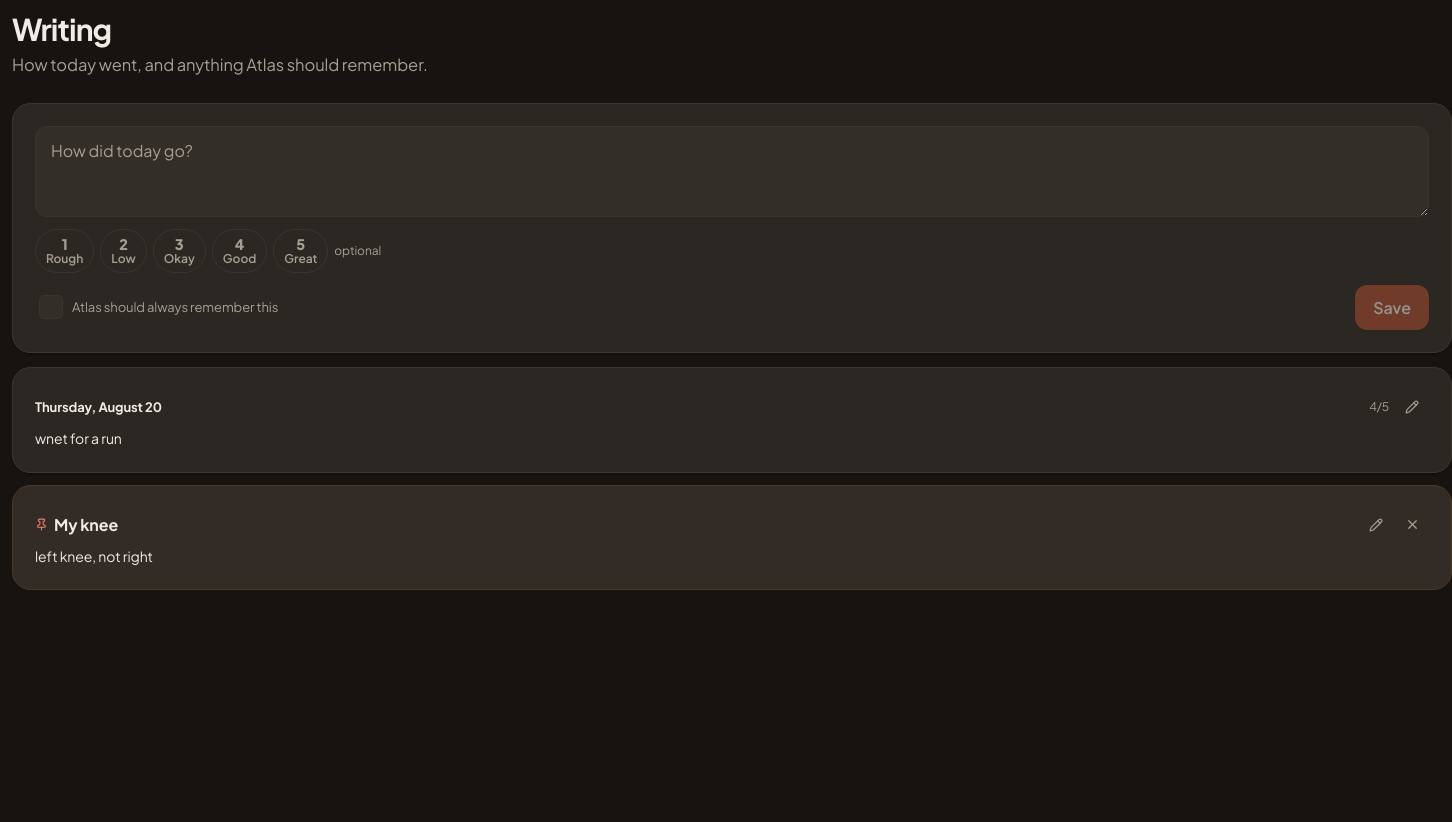
Test case: editing what you have written › sends nothing when the edit is cancelled
Click the button named "Edit " at [1412, 407], box [1395,390,1429,424]
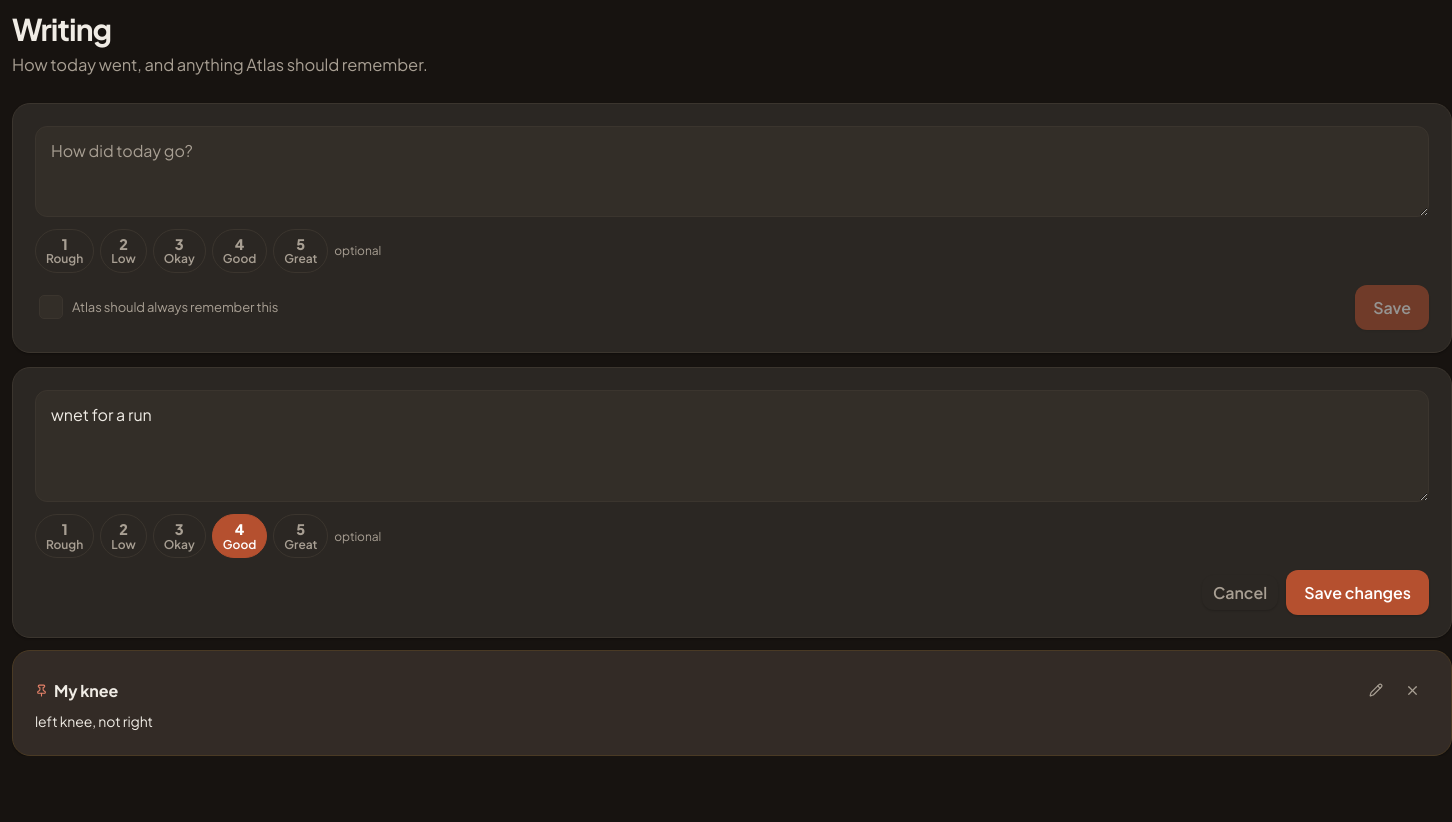
Type " — an afterthought" into the text box named "Edit " at [732, 446], box [35,390,1429,502]
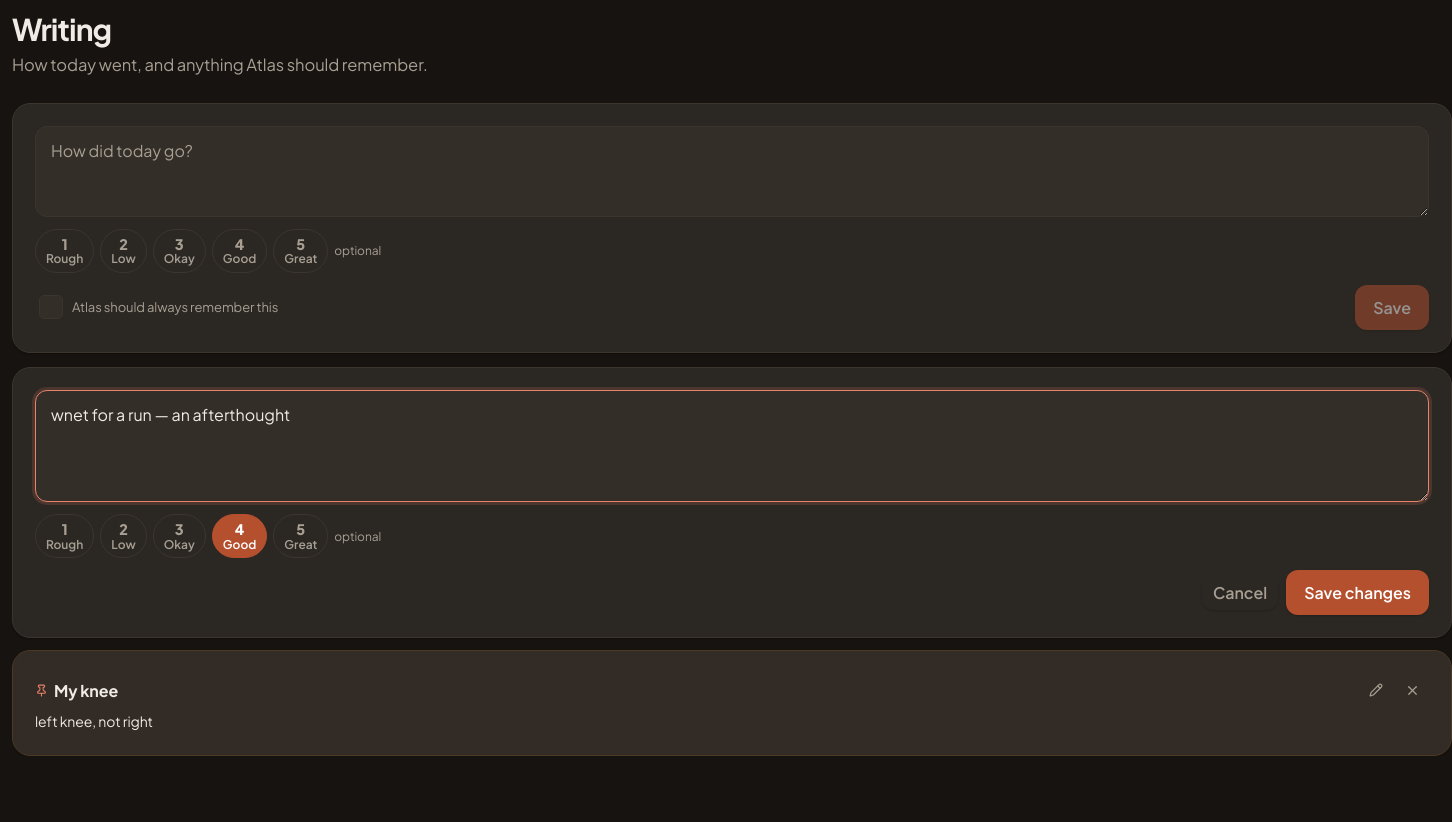
Click the button "Cancel" at [1240, 593], box [1202,575,1278,610]
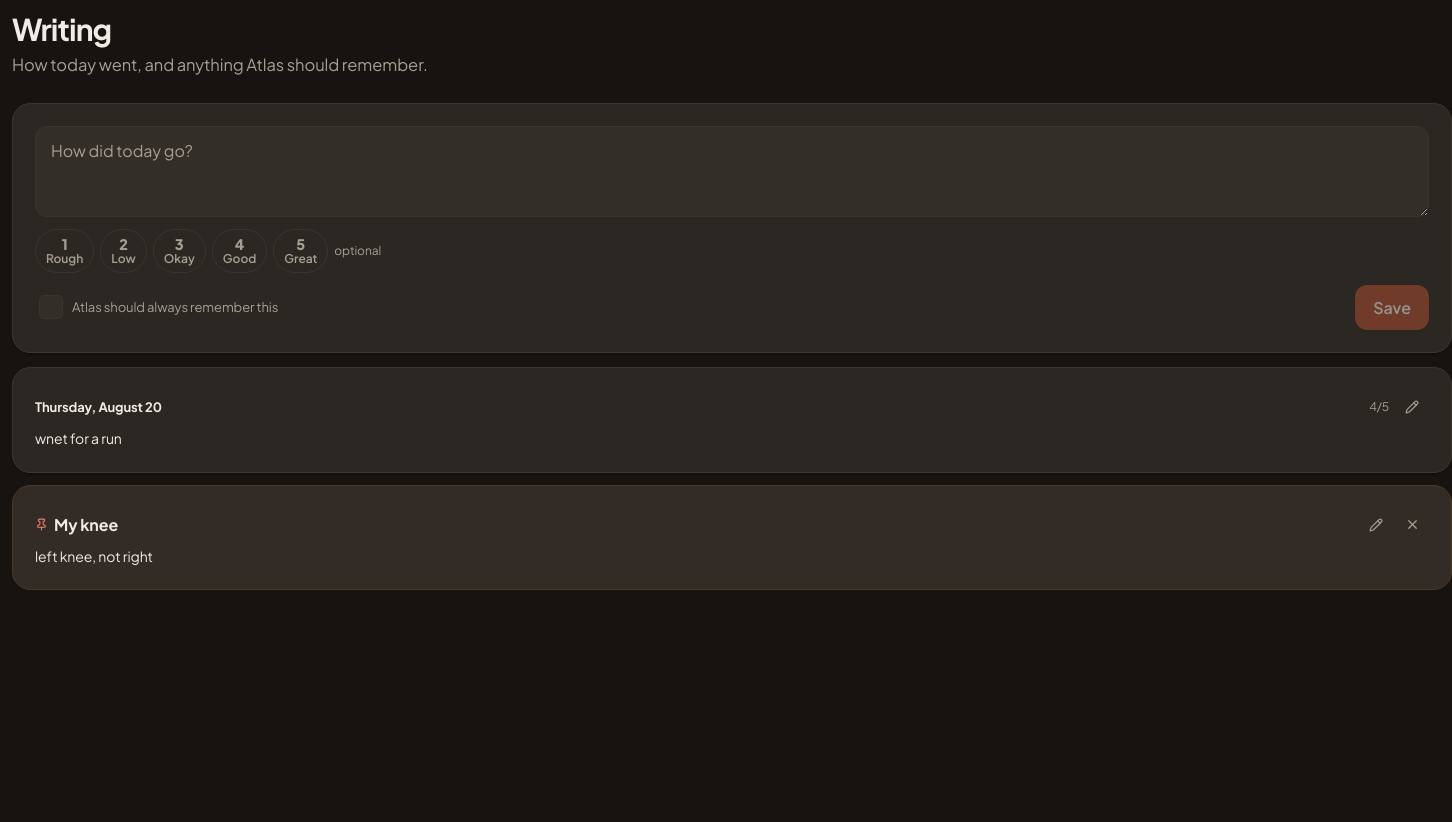
Expected: the text "wnet for a run" is shown, [35,429,122,447]
